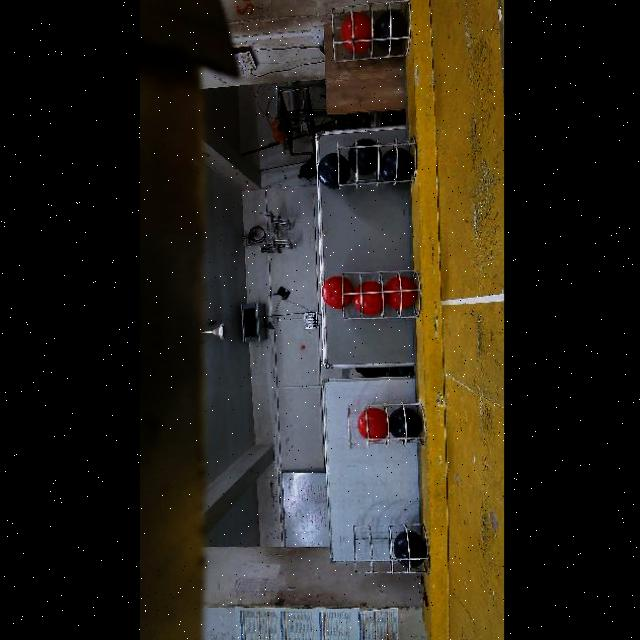P: (372, 9, 408, 51), (392, 530, 426, 569), (378, 148, 413, 182), (316, 153, 349, 189), (347, 138, 379, 175), (388, 408, 421, 441)
R: (340, 12, 370, 54), (351, 281, 386, 316), (321, 275, 353, 310), (356, 407, 387, 443), (384, 277, 416, 310)
S: (325, 0, 413, 66), (343, 394, 431, 450), (335, 136, 421, 188), (340, 268, 422, 320), (346, 398, 424, 448), (348, 522, 422, 572)
